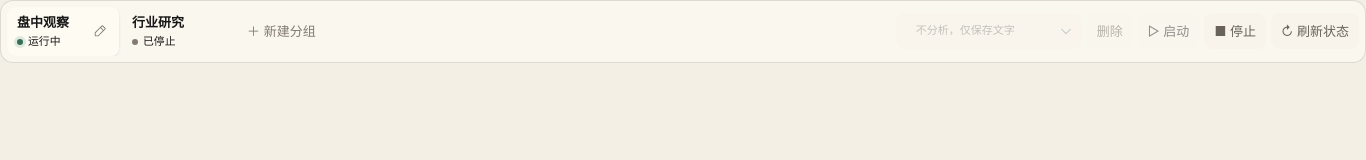
RoomGroupWorkspace › renames a running group from the inline title editor
This screenshot has width=1366, height=160.
Click the button named "编辑“盘中观察”分组名称".
click(100, 31)  # box [86, 17, 114, 45]
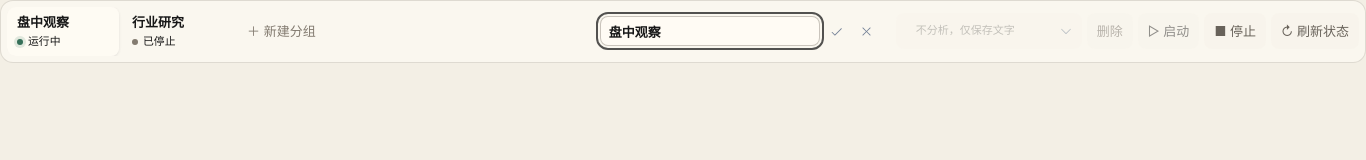
Replace the text in the field named "分组名称" with "早盘观察" at [710, 31], box [600, 16, 820, 46]
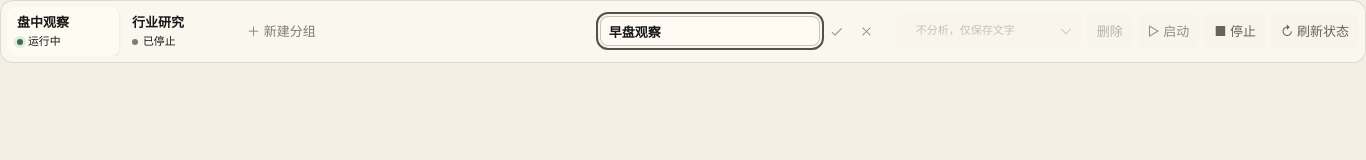
Click the button named "保存分组名称".
click(837, 31)  # box [824, 18, 850, 44]
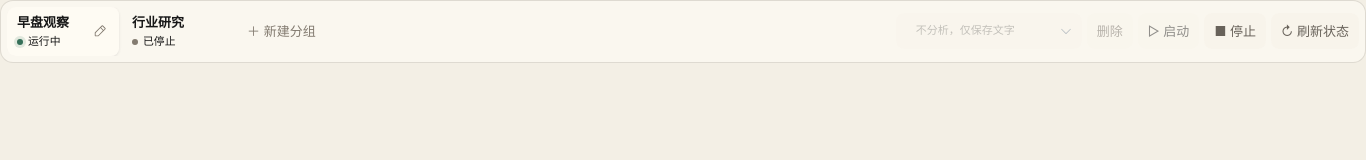
Check: the tab "早盘观察 运行中" is shown, box [7, 7, 86, 56]
